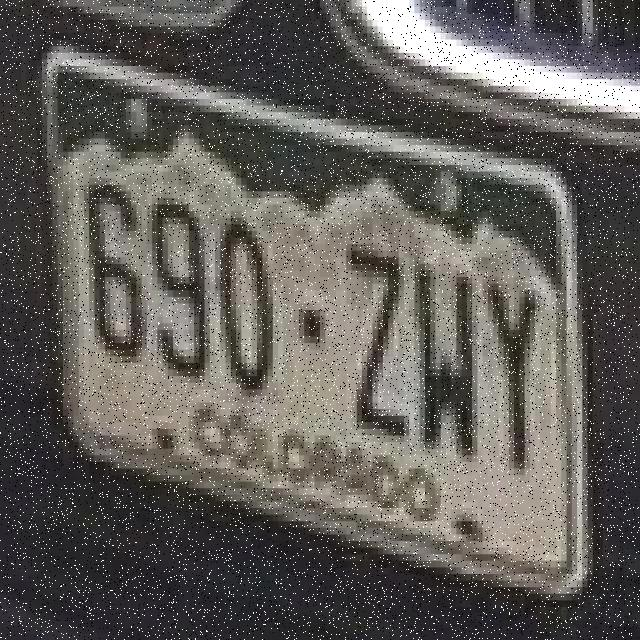licenseplate: (32, 18, 606, 605)
